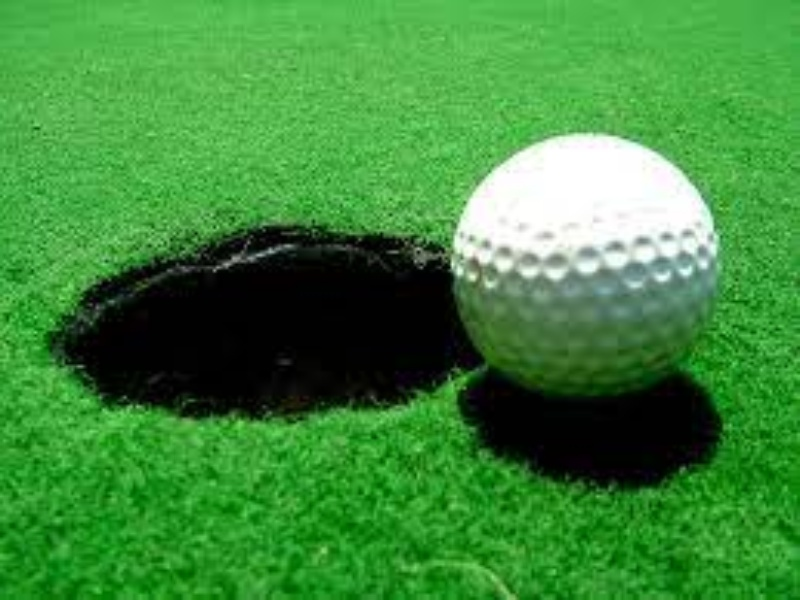golf_ball: (450, 133, 718, 400)
